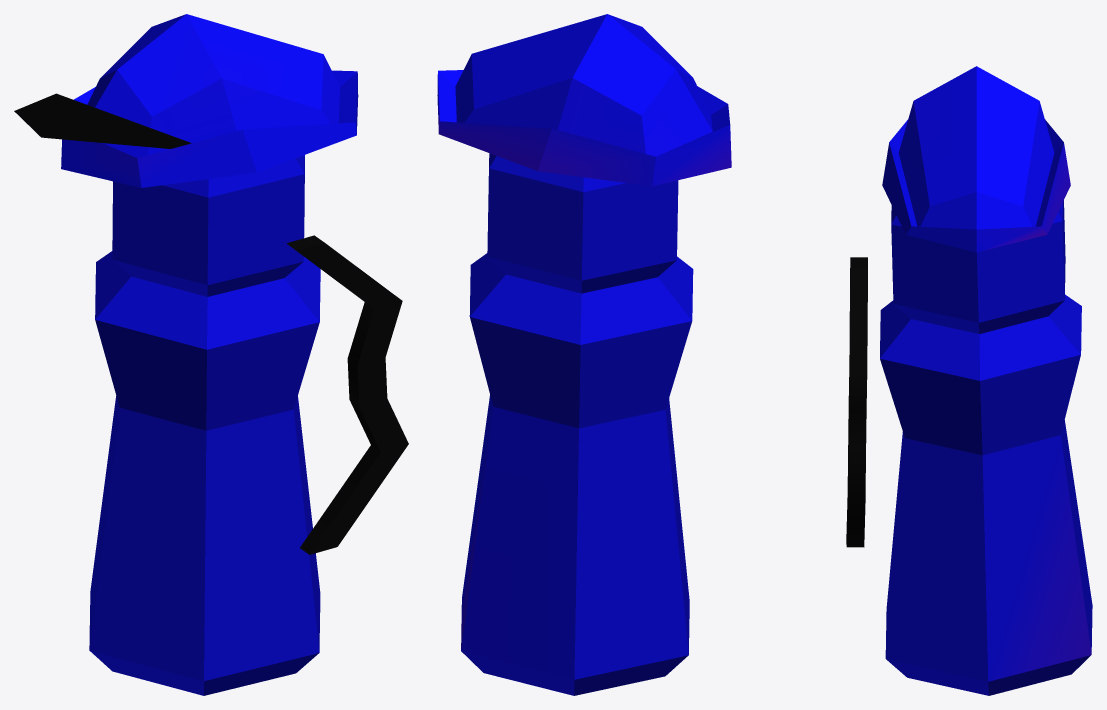
Rendered from ArcherB.fbx.
The picture shows the model from 3 angles, left to right: view 1: azimuth 30°, elevation 25°; view 2: azimuth 150°, elevation 25°; view 3: azimuth 270°, elevation 25°; orthographic projection. The views are drawn at different scales.
Parts seen in each view (by area): view 1: pCylinder8, pCube21, pCube6; view 2: pCylinder8, pCube21; view 3: pCylinder8, pCube21, pCube6.
Part boxes in pixels (left/top/right/bottom): pCylinder8: left=89, top=155, right=320, bottom=695; pCube21: left=14, top=14, right=358, bottom=187; pCube6: left=287, top=235, right=408, bottom=554; pCylinder8: left=461, top=153, right=693, bottom=695; pCube21: left=437, top=14, right=731, bottom=186; pCylinder8: left=880, top=200, right=1092, bottom=695; pCube21: left=882, top=66, right=1070, bottom=252; pCube6: left=846, top=257, right=867, bottom=547.
Bounding box in the file's own units: 79.26 × 135 × 51.83.
